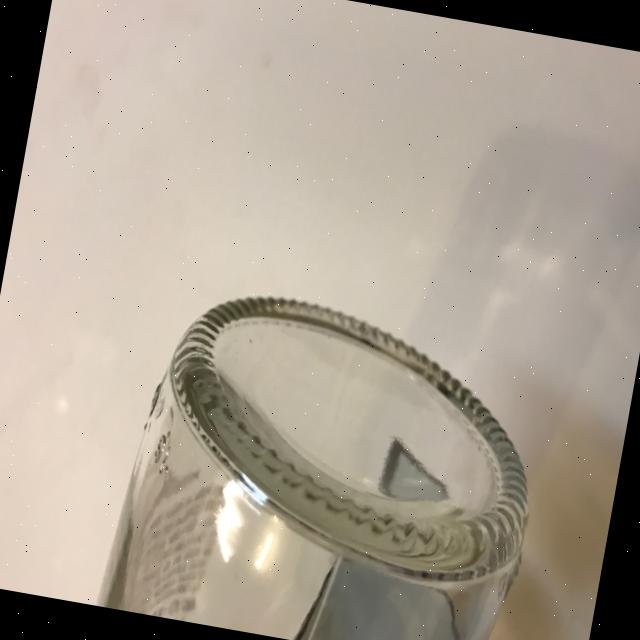glass: (95, 271, 560, 640)
